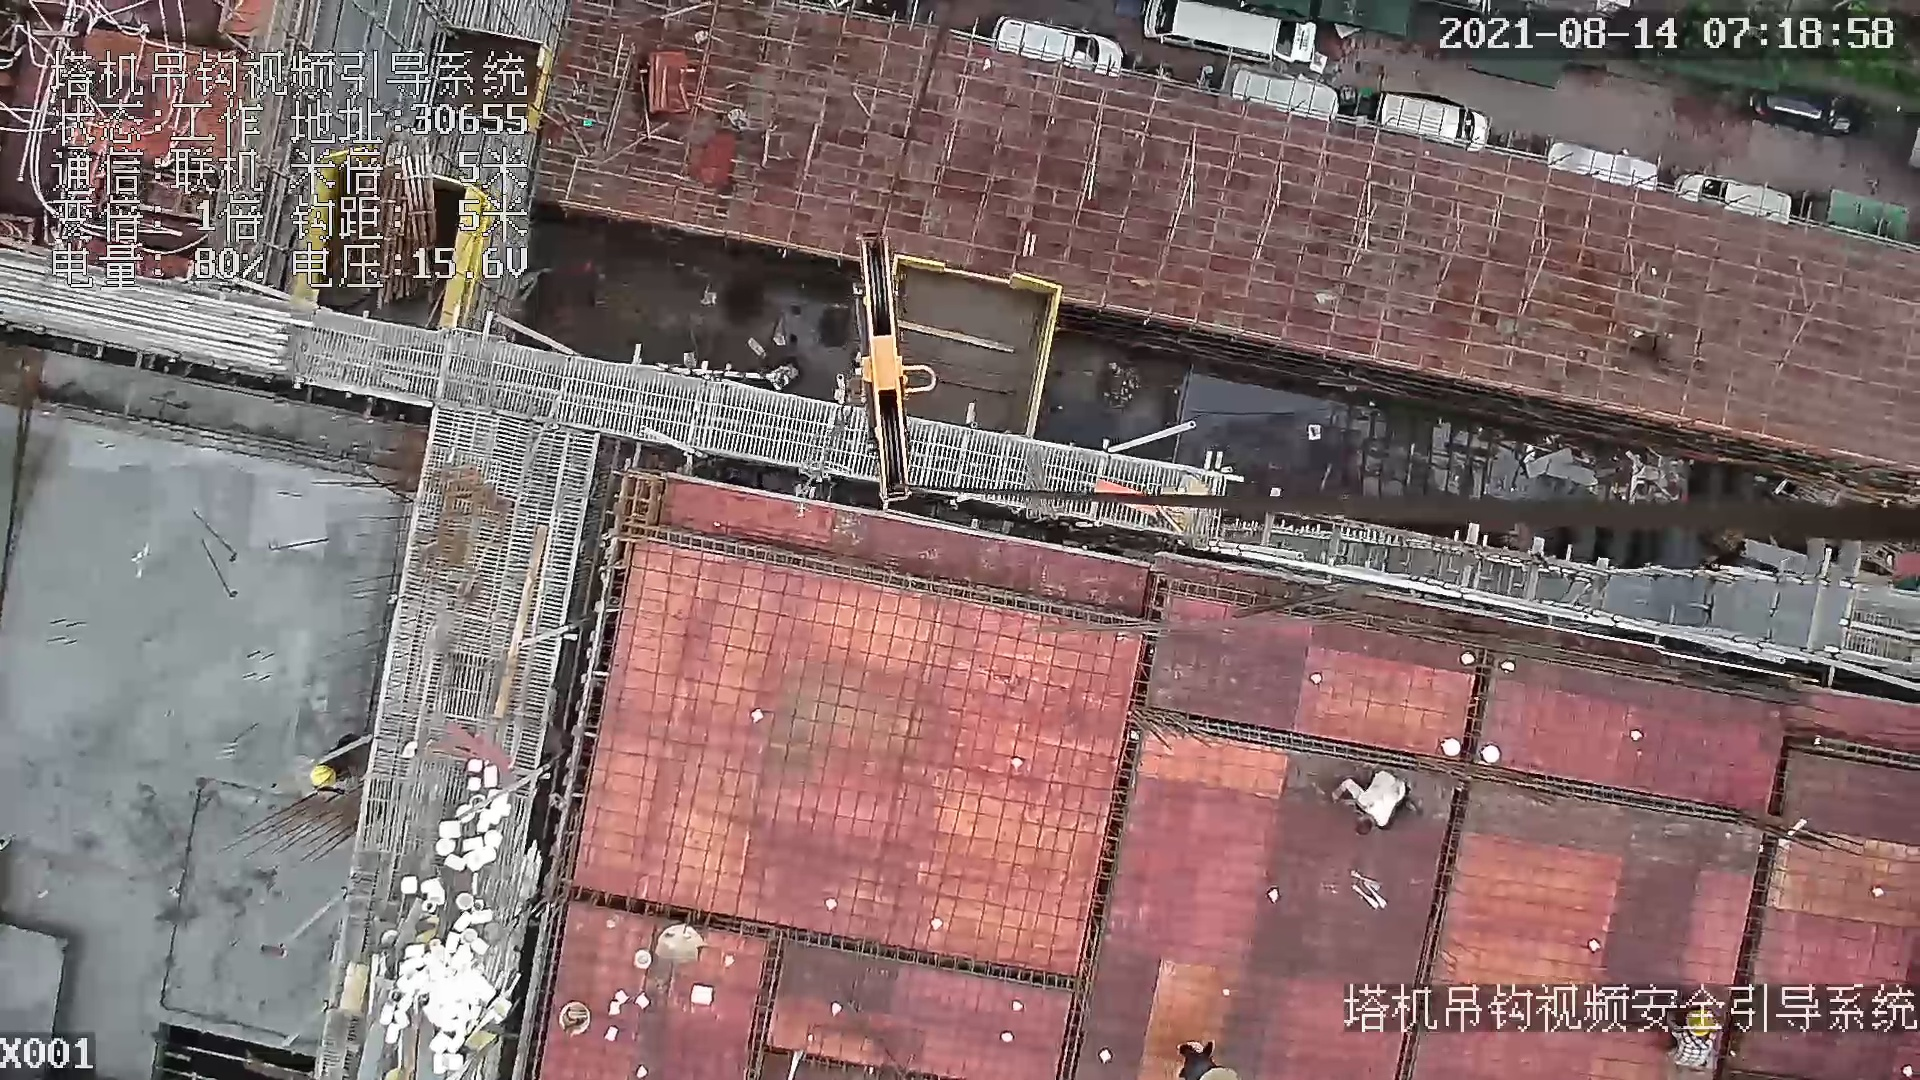helmet: (308, 757, 329, 794)
hook: (847, 232, 945, 513)
person: (1340, 765, 1415, 837), (301, 724, 377, 791), (1178, 1040, 1251, 1080)
